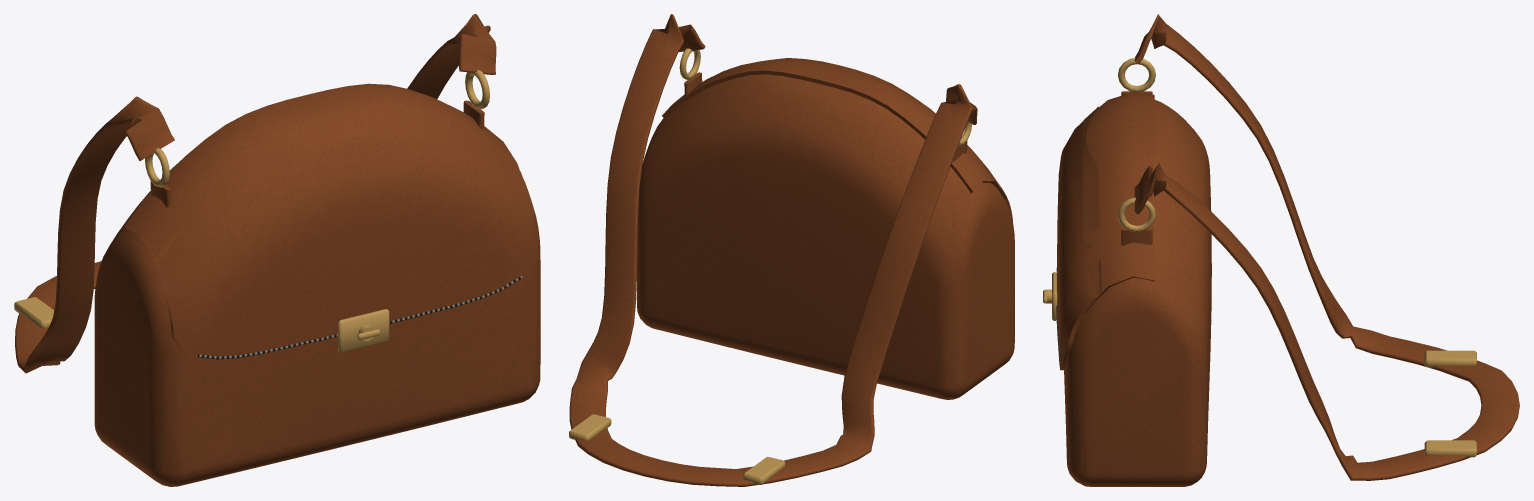
The model's file is innerscene-crossbody-bag.glb.
The picture shows the model from 3 angles, left to right: view 1: azimuth 30°, elevation 25°; view 2: azimuth 150°, elevation 25°; view 3: azimuth 270°, elevation 25°; orthographic projection. The views are drawn at different scales.
Visible parts, largest first — view 1: Front flap, Crossbody body, Shoulder strap, Stitching, lock and rings; view 2: Crossbody body, Shoulder strap, Front flap, Stitching, lock and rings; view 3: Crossbody body, Shoulder strap, Front flap, Stitching, lock and rings.
Part boxes in pixels (x1,y1,x2,y2): Front flap: (124,83,538,377); Crossbody body: (94,164,540,486); Shoulder strap: (14,14,496,373); Stitching, lock and rings: (145,70,522,359); Crossbody body: (637,74,1014,399); Shoulder strap: (569,14,977,486); Front flap: (662,58,1013,223); Stitching, lock and rings: (679,48,971,162); Crossbody body: (1064,100,1211,486); Shoulder strap: (1134,14,1519,480); Front flap: (1057,92,1154,370); Stitching, lock and rings: (1043,58,1155,357).
Size of the model in its own units: 0.2301 by 0.2042 by 0.2736.
Materials: 3 (3 with a texture image).
